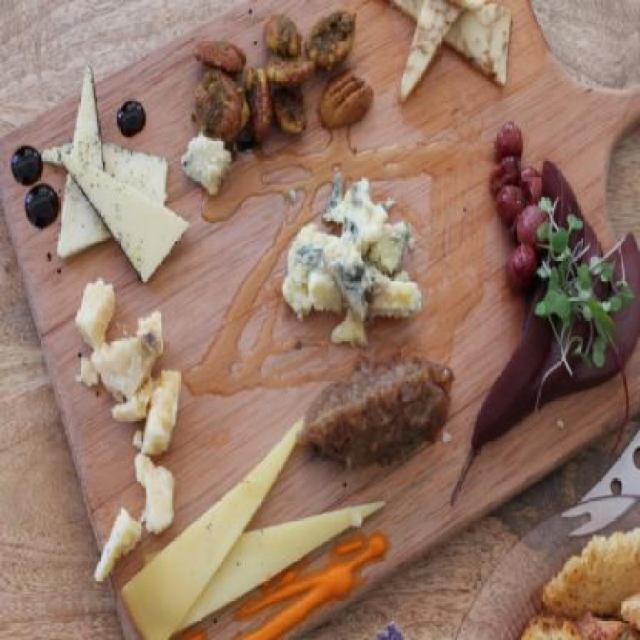Cheese: (120, 413, 309, 639), (176, 500, 390, 634), (55, 150, 188, 286), (54, 58, 109, 255), (41, 142, 170, 202)
